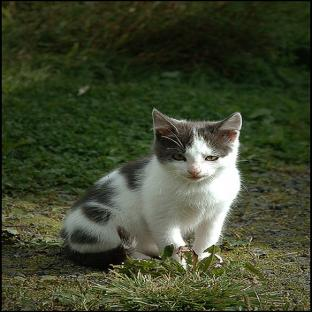Animal: (62, 109, 241, 269)
